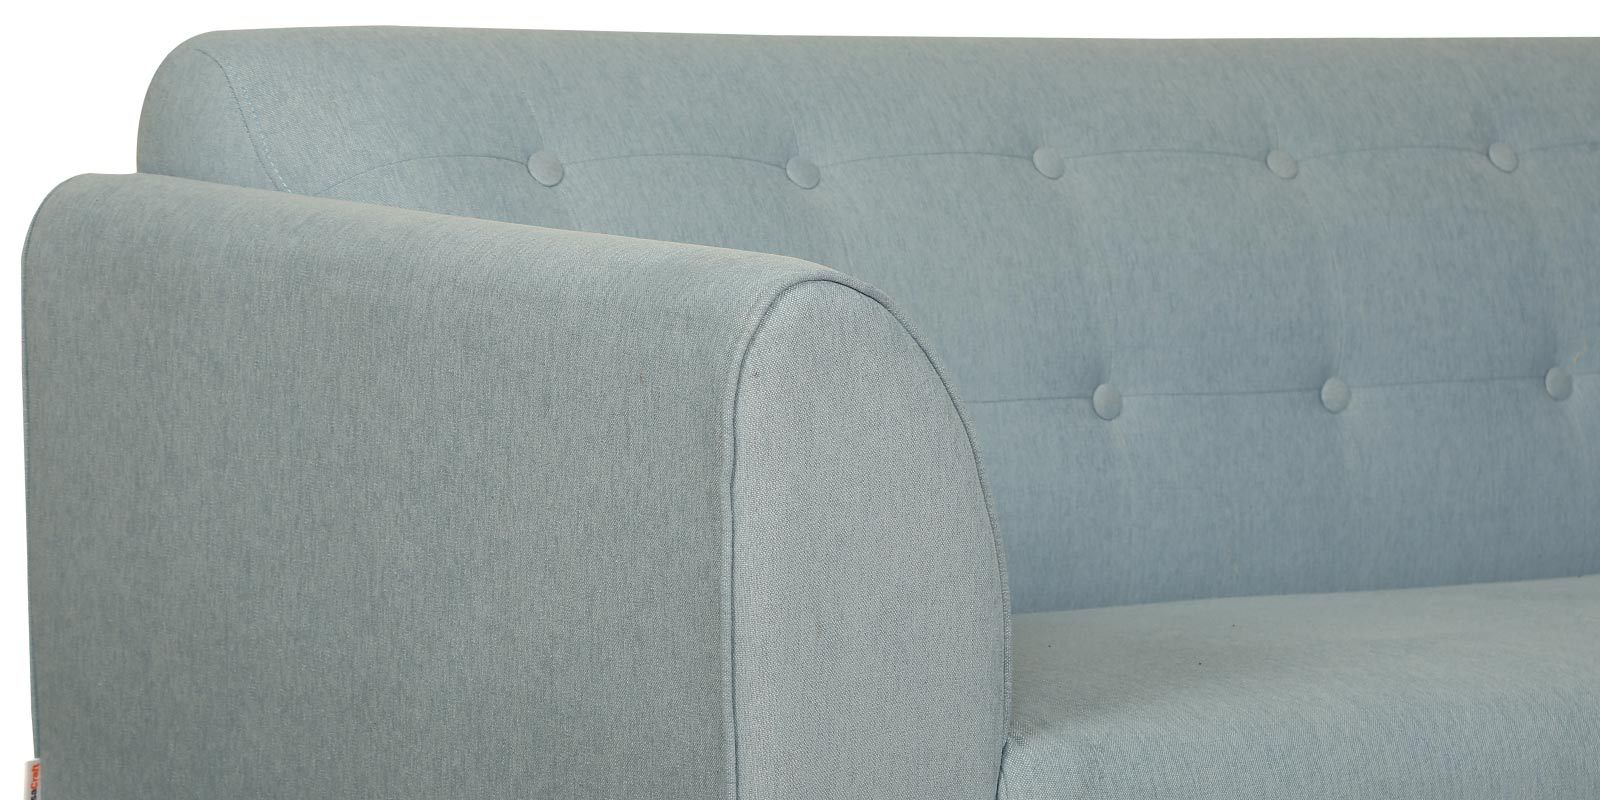Belem Three Seater Sofa in Ice Blue Color by CasaCraft: (6, 22, 1545, 782)
